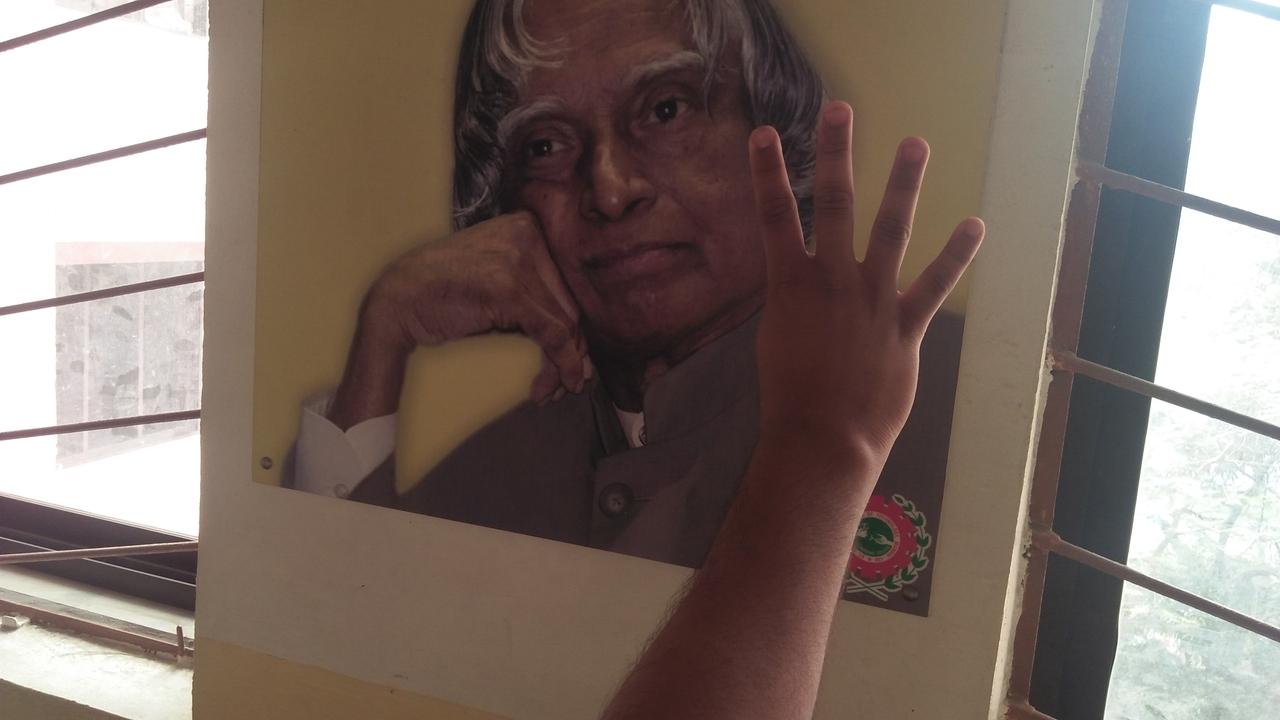fingertip: (940, 206, 996, 258), (888, 126, 944, 166), (744, 120, 792, 164), (818, 90, 862, 132)
